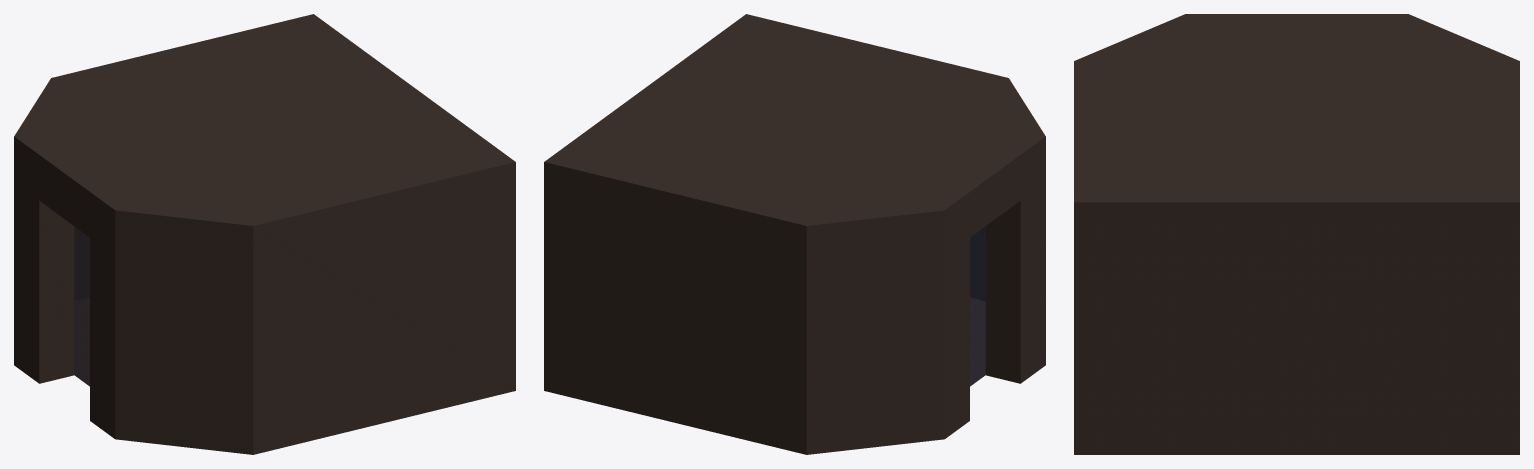
Rendered from modularBuildings_060.obj.
3 views of the same model, side by side, from view 1: azimuth 30°, elevation 25°; view 2: azimuth 150°, elevation 25°; view 3: azimuth 270°, elevation 25° (orthographic). The views are drawn at different scales.
Parts seen in each view (by area): view 1: Mesh1 Group1 Model; view 2: Mesh1 Group1 Model; view 3: Mesh1 Group1 Model.
Boxes of the visible parts, left/top/right/bottom form: Mesh1 Group1 Model: left=14, top=14, right=515, bottom=454; Mesh1 Group1 Model: left=544, top=14, right=1045, bottom=454; Mesh1 Group1 Model: left=1074, top=14, right=1519, bottom=454.
Bounding box in the file's own units: 1 × 0.625 × 1.
Materials: 2 (2 with a texture image).
